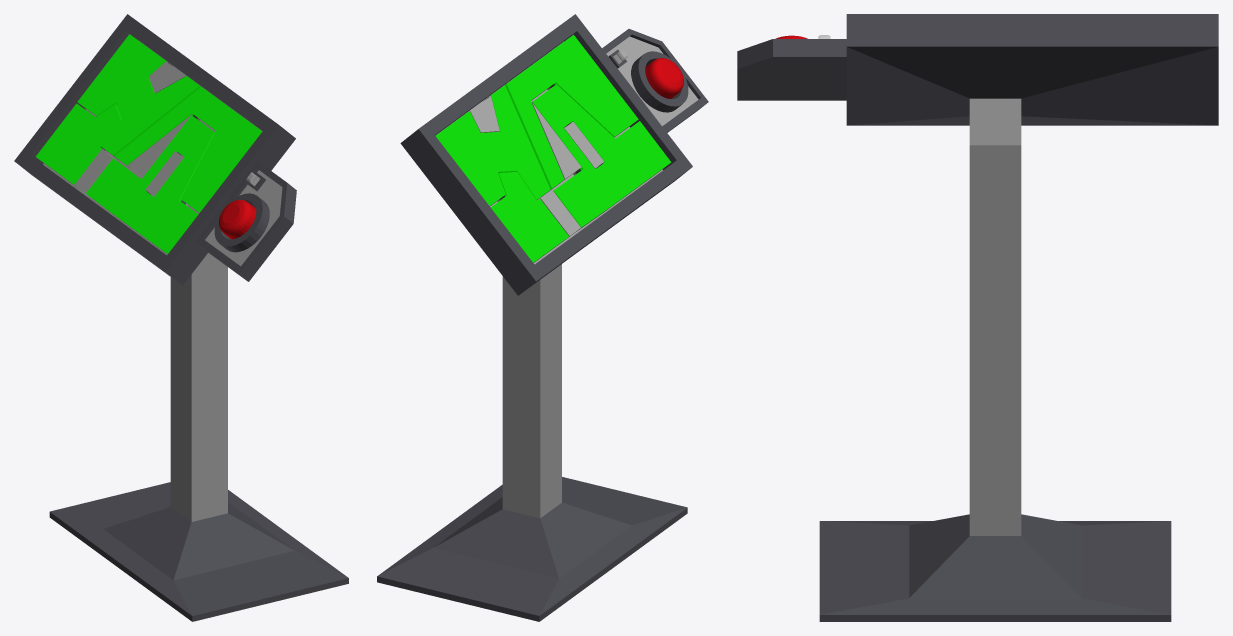
Rendered from CircuitBoardDevice.fbx.
The picture shows the model from 3 angles, left to right: view 1: azimuth 30°, elevation 25°; view 2: azimuth 150°, elevation 25°; view 3: azimuth 270°, elevation 25°; orthographic projection. The views are drawn at different scales.
Visible parts, largest first — view 1: Cube, Cube.004, Cube.002, Cube.003, Cube.001, Cube.005; view 2: Cube, Cube.004, Cube.003, Cube.002, Cube.001, Cube.005; view 3: Cube.
Boxes of the visible parts, x1,y1,x2,y2 form: Cube: (14, 14, 348, 621); Cube.004: (86, 115, 215, 254); Cube.002: (77, 34, 200, 160); Cube.003: (115, 87, 262, 212); Cube.001: (35, 103, 121, 188); Cube.005: (219, 199, 256, 239); Cube: (377, 14, 708, 621); Cube.004: (531, 84, 671, 232); Cube.003: (505, 34, 638, 193); Cube.002: (435, 85, 550, 206); Cube.001: (490, 171, 568, 262); Cube.005: (645, 58, 683, 98); Cube: (737, 14, 1218, 621).
Bounding box in the file's own units: 85.32 × 220 × 168.
